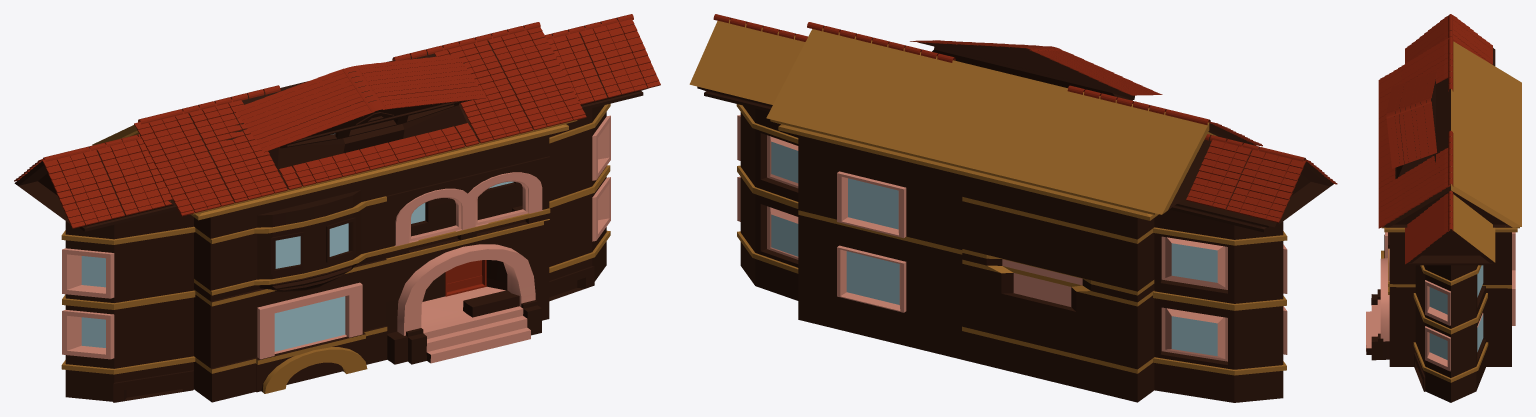
Rendered from WillaPartakia.fbx.
3 renders of one model, left to right at view 1: azimuth 30°, elevation 25°; view 2: azimuth 150°, elevation 25°; view 3: azimuth 270°, elevation 25°, orthographic. The views are drawn at different scales.
Visible parts, largest first — view 1: Cube; view 2: Cube; view 3: Cube.
Boxes of the visible parts, x1,y1,x2,y2 form: Cube: (14,14,660,402); Cube: (689,14,1337,402); Cube: (1366,14,1521,402).
Bounding box in the file's own units: 1295 × 575 × 395.
